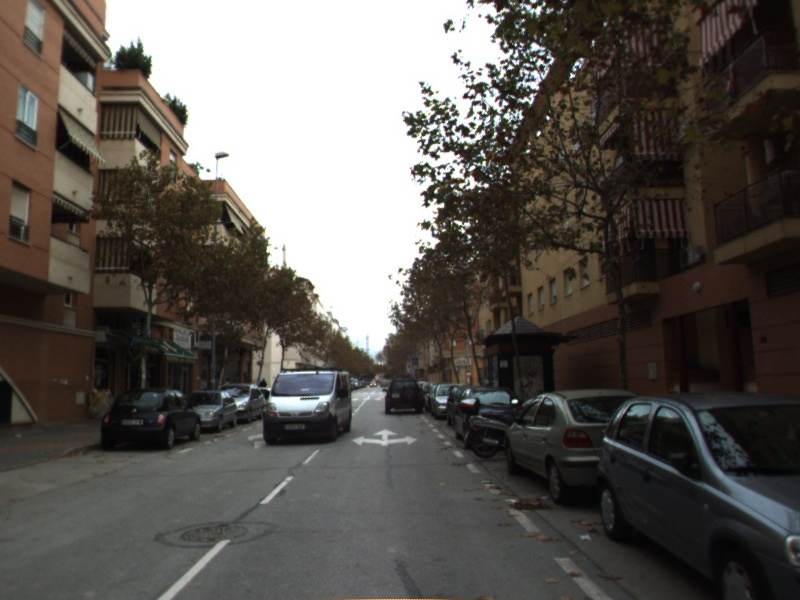STRAIGHT_LEFT_RIGHT: (350, 427, 421, 448)
